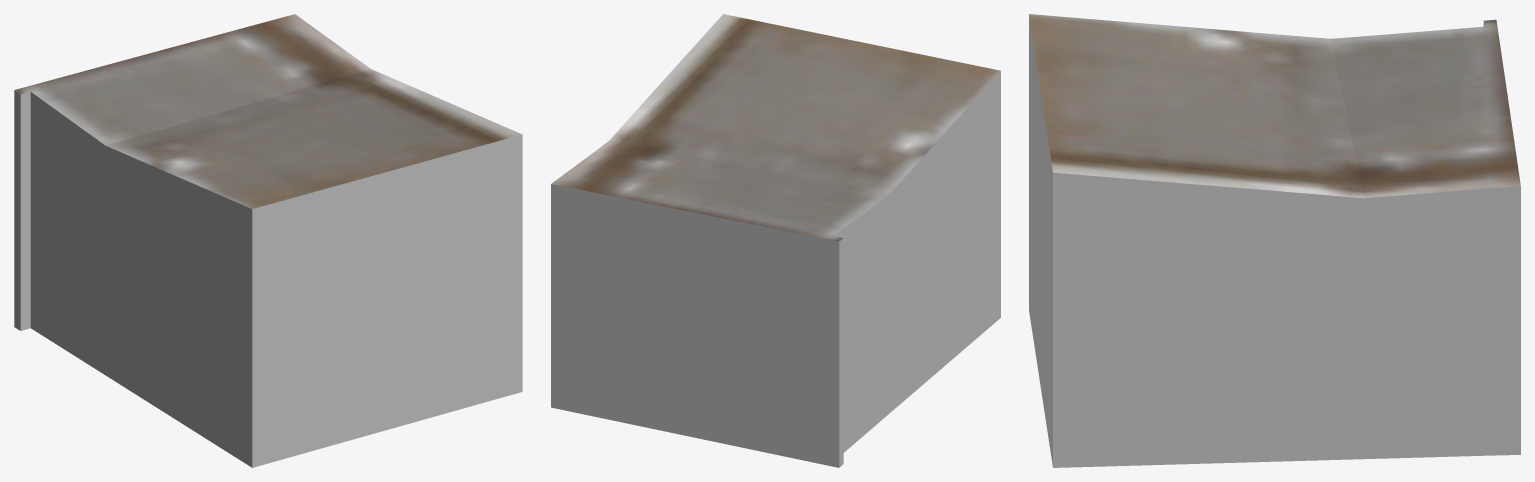
The model's file is DEBW_0010007Txa9.gltf.
3 renders of one model, left to right at view 1: azimuth 30°, elevation 25°; view 2: azimuth 150°, elevation 25°; view 3: azimuth 270°, elevation 25°, orthographic. The views are drawn at different scales.
Visible parts, largest first — view 1: Z_UP; view 2: Z_UP; view 3: Z_UP.
Part boxes in pixels (x1,y1,x2,y2): Z_UP: (14, 14, 522, 467); Z_UP: (551, 14, 1000, 467); Z_UP: (1029, 14, 1520, 467).
Size of the model in its own units: 8.19 by 6.43 by 9.66.
2 materials, 1 textured.
